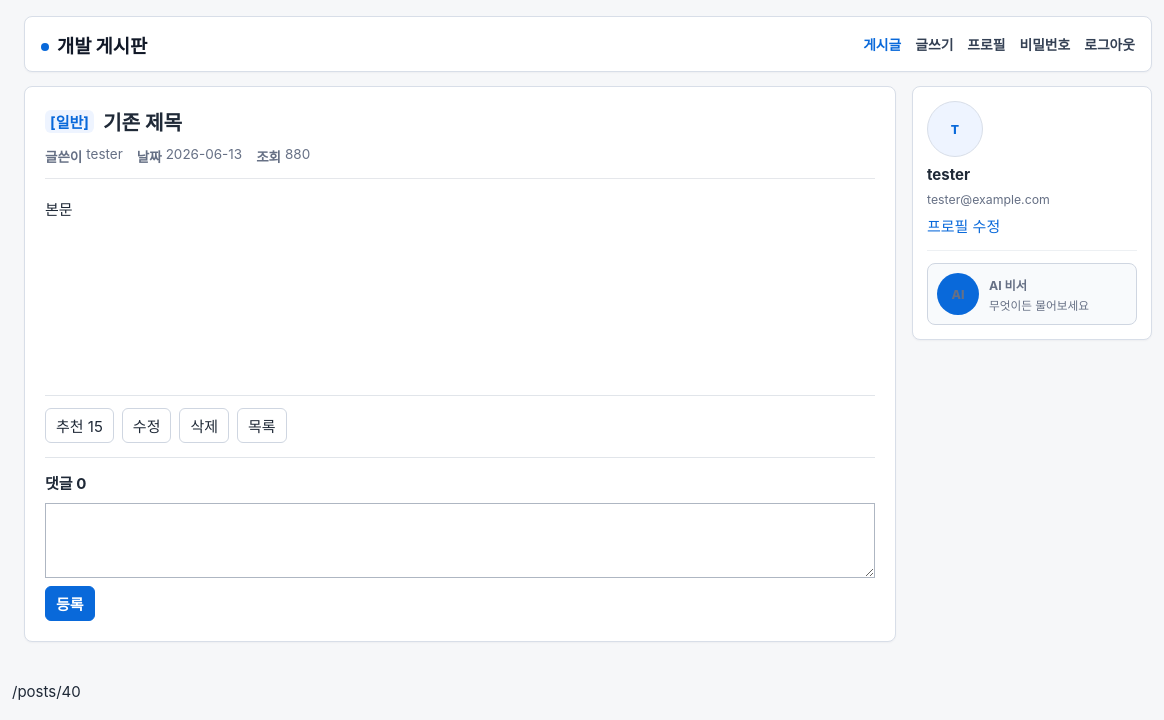
게시글 › 게시글 삭제 후 목록으로 이동한다
Click the button "삭제": point(204, 426) [179,408,229,443]
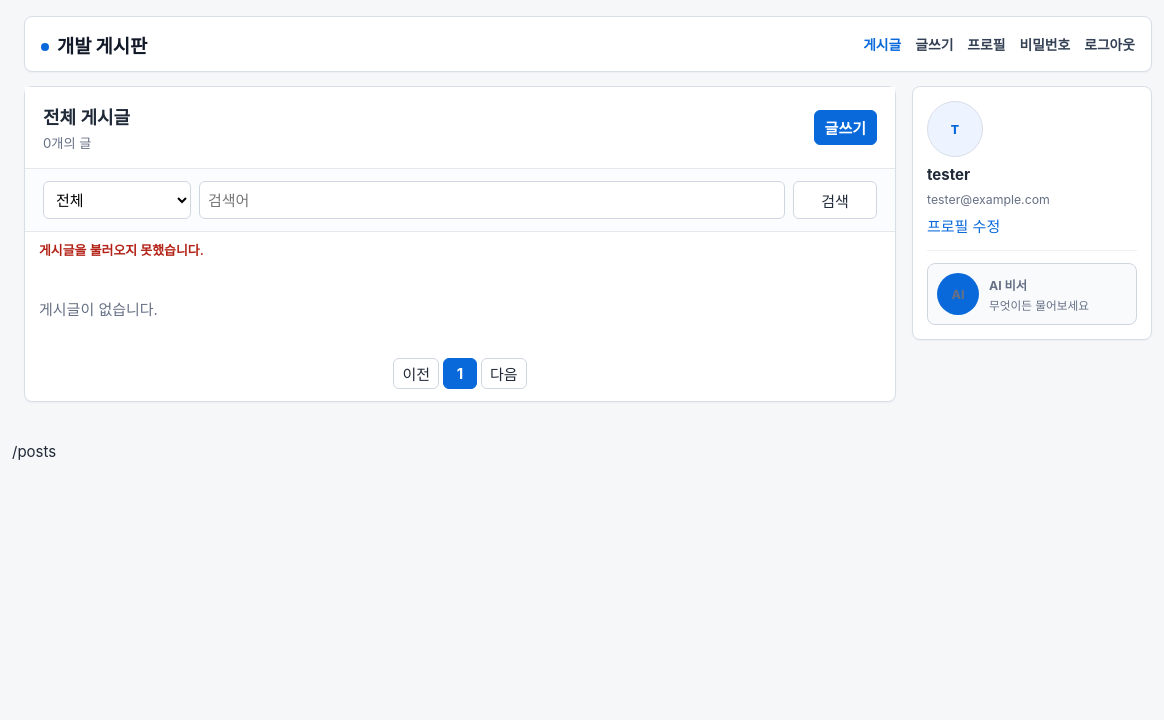
expect the text named "현재 주소" reads "/posts": met, box [12,442,56,461]
